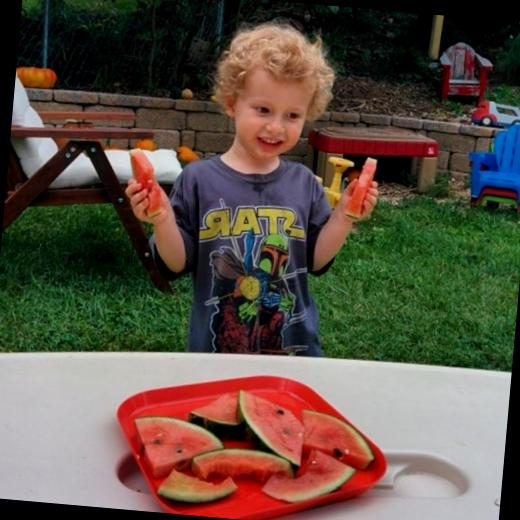Cherry: (126, 383, 381, 520), (124, 146, 169, 217), (344, 156, 378, 219)
